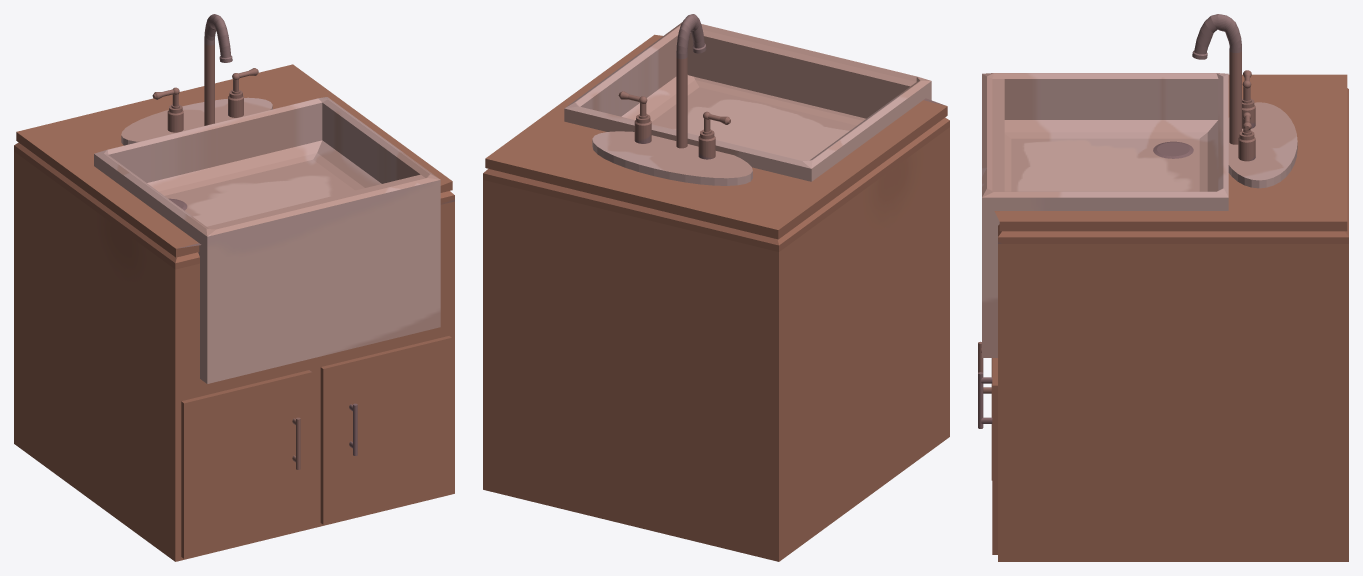
The model's file is sink shump asset.fbx.
The picture shows the model from 3 angles, left to right: view 1: azimuth 30°, elevation 25°; view 2: azimuth 150°, elevation 25°; view 3: azimuth 270°, elevation 25°; orthographic projection. The views are drawn at different scales.
Visible parts, largest first — view 1: sink; view 2: sink; view 3: sink.
Boxes of the visible parts, x1,y1,x2,y2 form: sink: [14, 14, 454, 561]; sink: [483, 14, 949, 561]; sink: [978, 14, 1348, 561].
Bounding box in the file's own units: 293 × 438 × 309.
